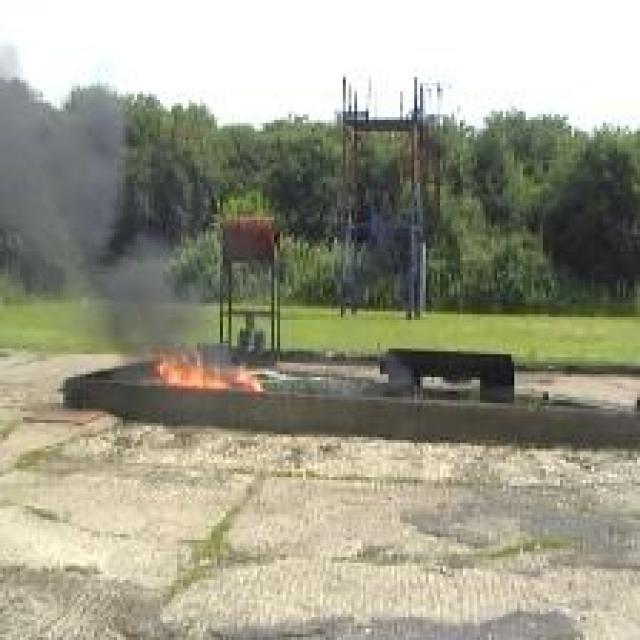Fire: (160, 348, 263, 392)
